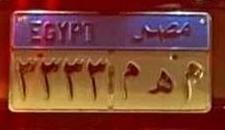3: (12, 56, 37, 102), (61, 57, 87, 101), (87, 60, 109, 101), (40, 57, 61, 99)
haa: (149, 62, 173, 95)
meem: (121, 54, 139, 101), (182, 61, 202, 102)
